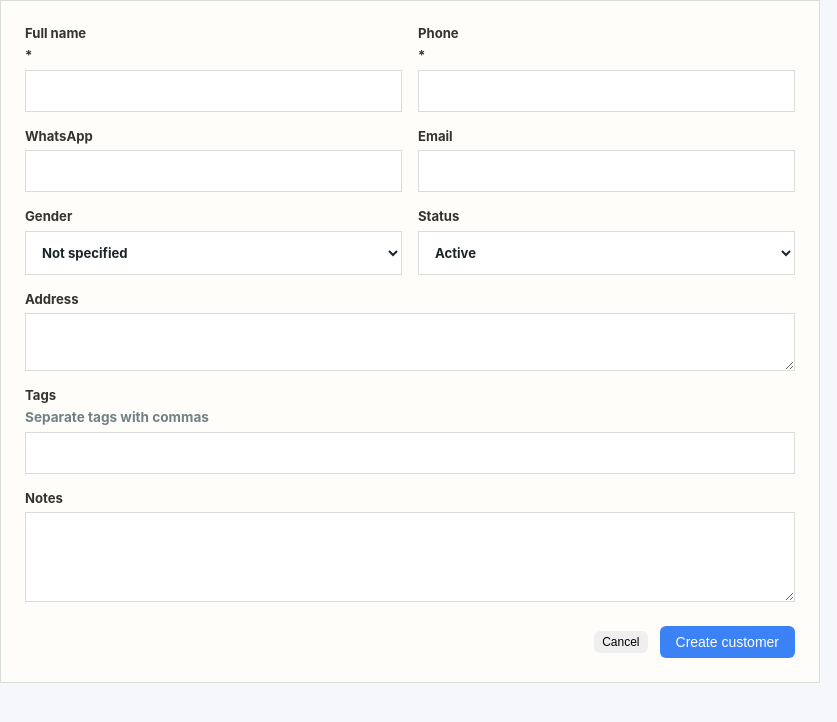
it: customer feature › validates required fields before submitting the customer form
Click the button "Create customer" at (727, 642), box [660,626,795,658]
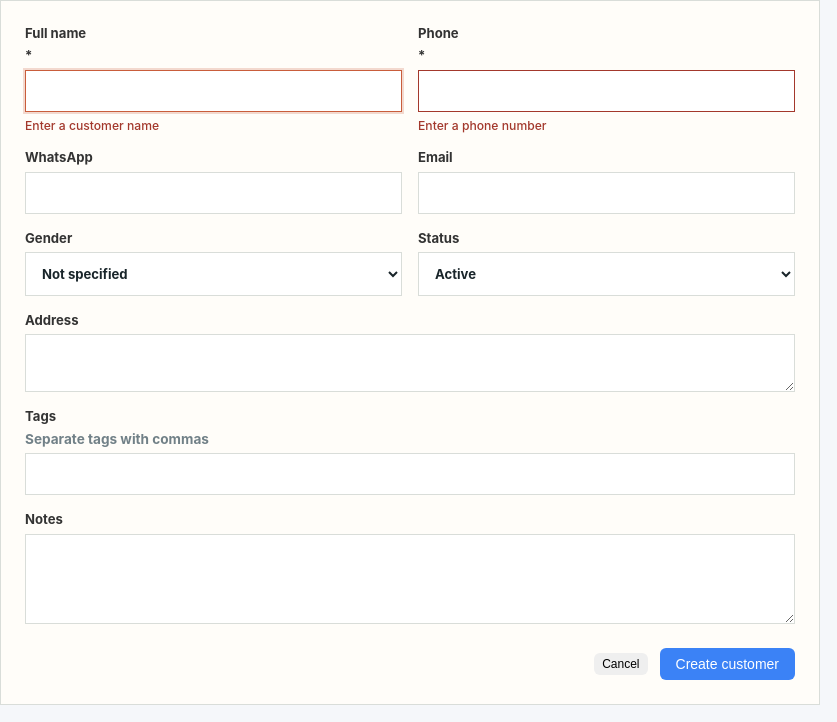
Result: the text "Enter a customer name" is shown at [25,118,159,133]
